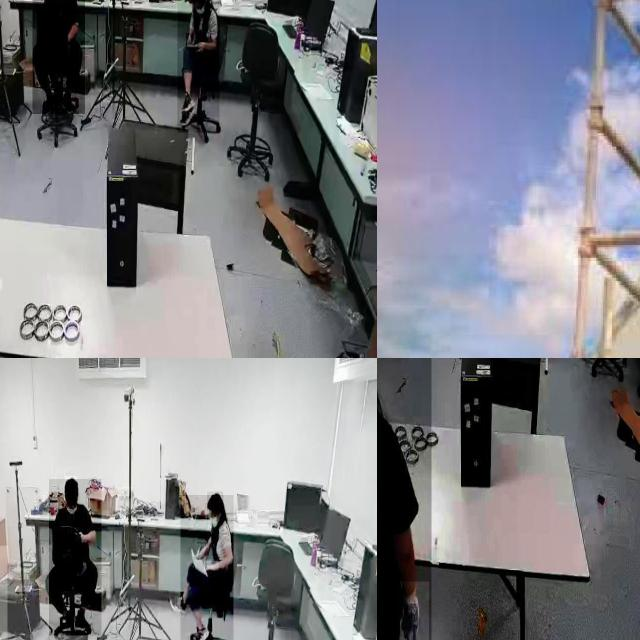face_mask: (66, 494, 80, 516), (208, 510, 220, 531)
glasses: (73, 607, 93, 637), (168, 596, 188, 614), (189, 624, 209, 640)
hand_glove: (396, 581, 429, 640)
hand_noglove: (193, 40, 204, 53), (204, 560, 218, 570), (186, 33, 194, 46)
head_nohelmet: (207, 492, 223, 508), (64, 476, 78, 491)
person: (377, 358, 432, 640), (49, 479, 102, 636), (180, 494, 233, 640), (32, 0, 85, 114), (177, 0, 220, 133)
shoes: (62, 92, 78, 119), (180, 88, 196, 115), (40, 88, 56, 114), (180, 105, 194, 133)
